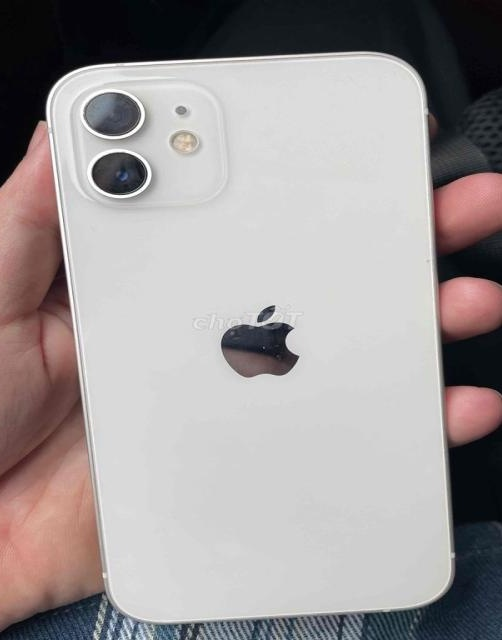scratch: (192, 285, 313, 401)
